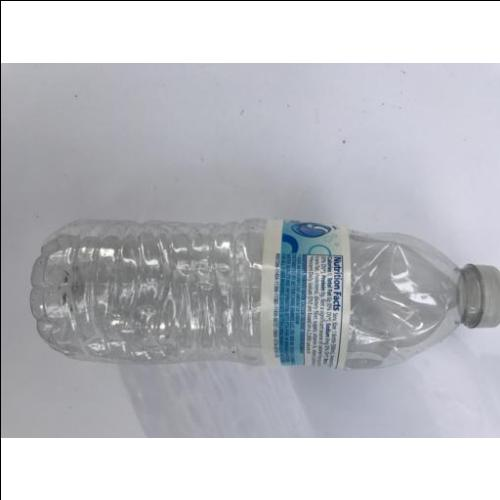plastic: (30, 222, 500, 370)
